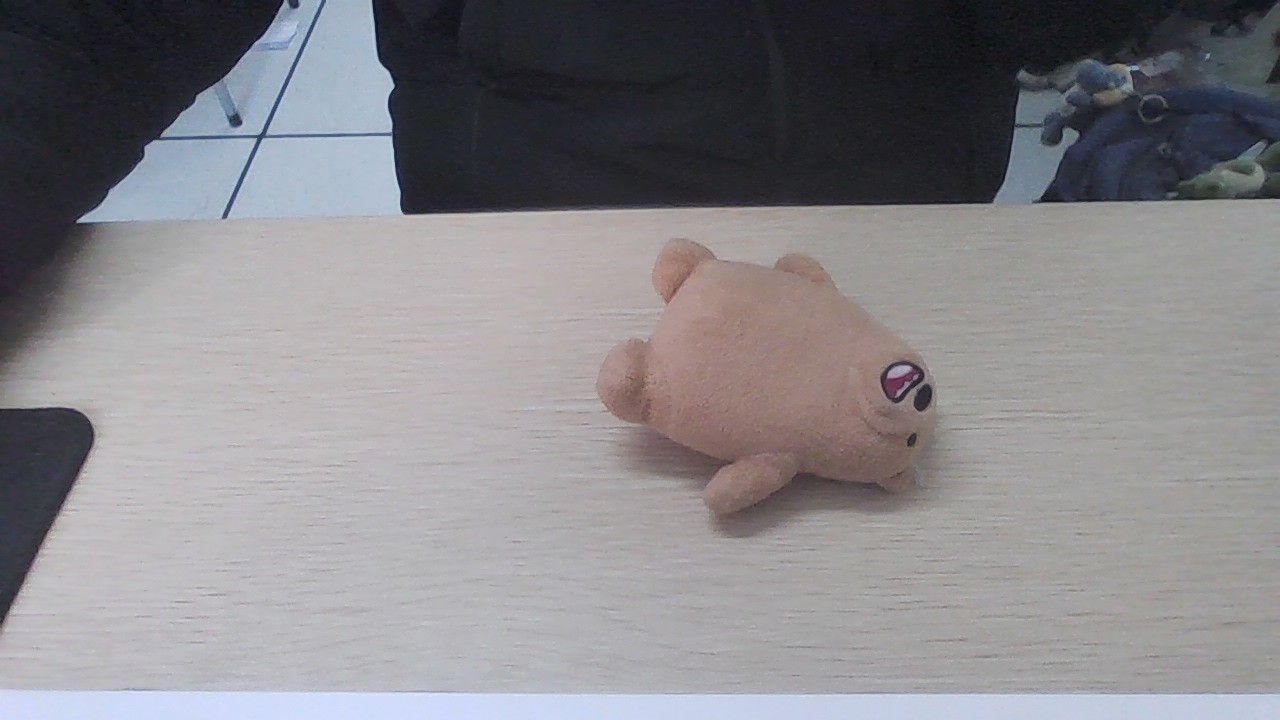KHS-doll: (613, 242, 913, 502)
